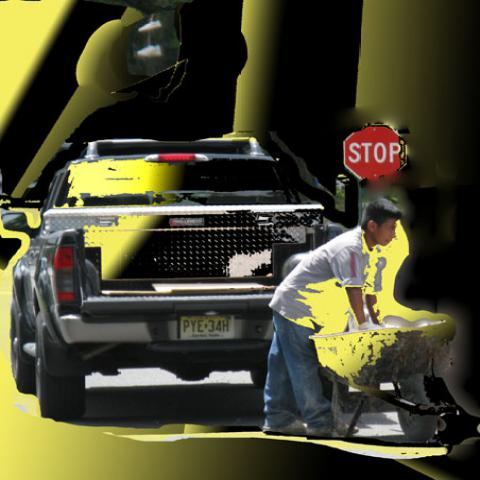truck: (0, 137, 343, 419)
